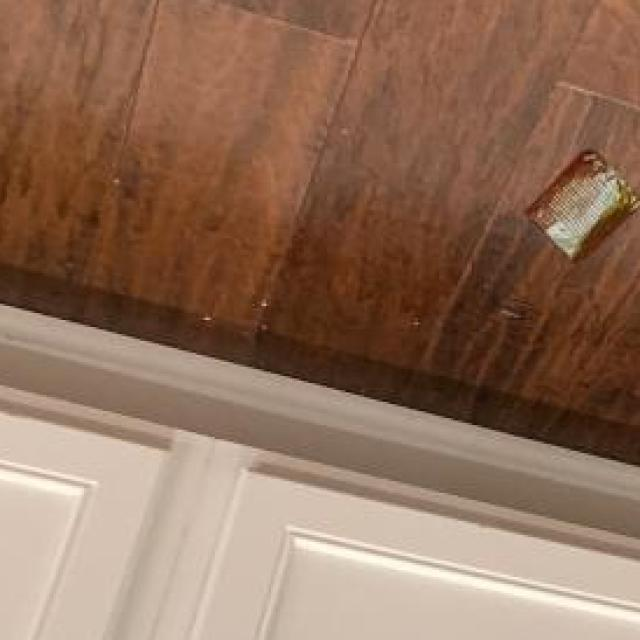logam: (522, 153, 636, 267)
